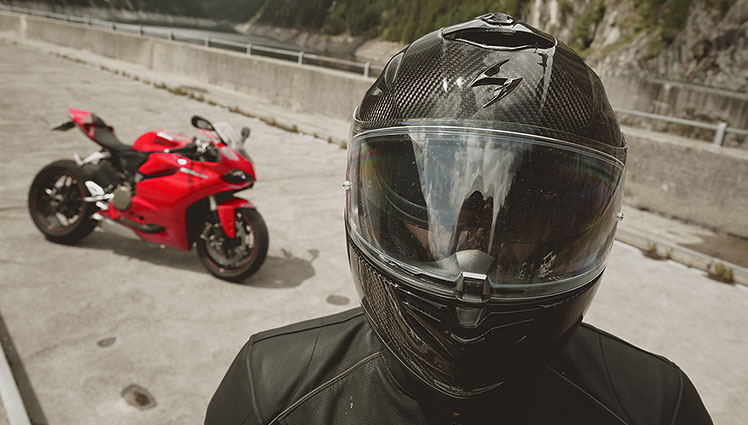with_helmet: (342, 9, 627, 404)
